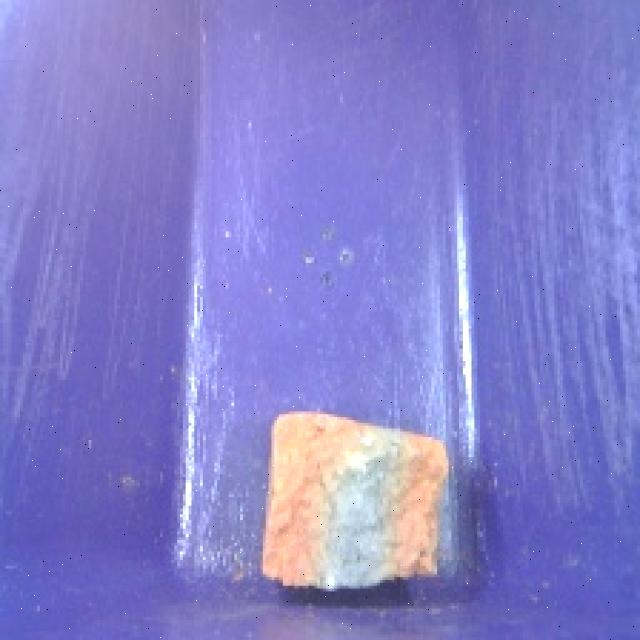brick: (247, 404, 452, 604)
